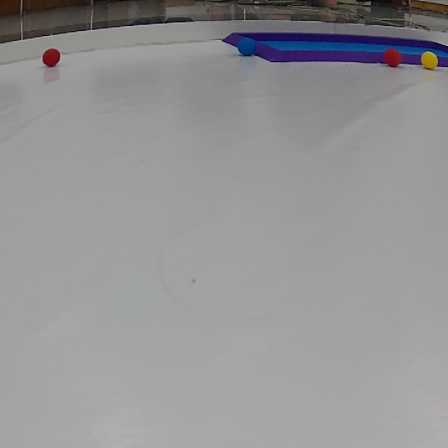blue: (236, 38, 260, 55)
blue_aim: (215, 32, 448, 70)
red: (380, 47, 402, 68), (41, 48, 62, 68)
yellow: (423, 52, 440, 70)
